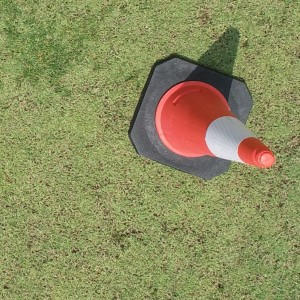traffic cone: (128, 56, 275, 181)
